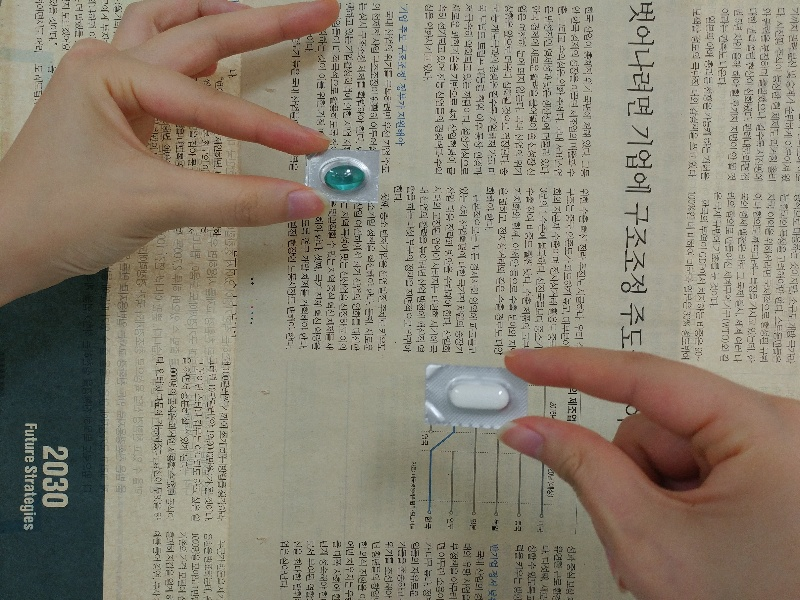pill_ezn: (306, 146, 382, 204)
pill_tylenol: (426, 362, 528, 426)
